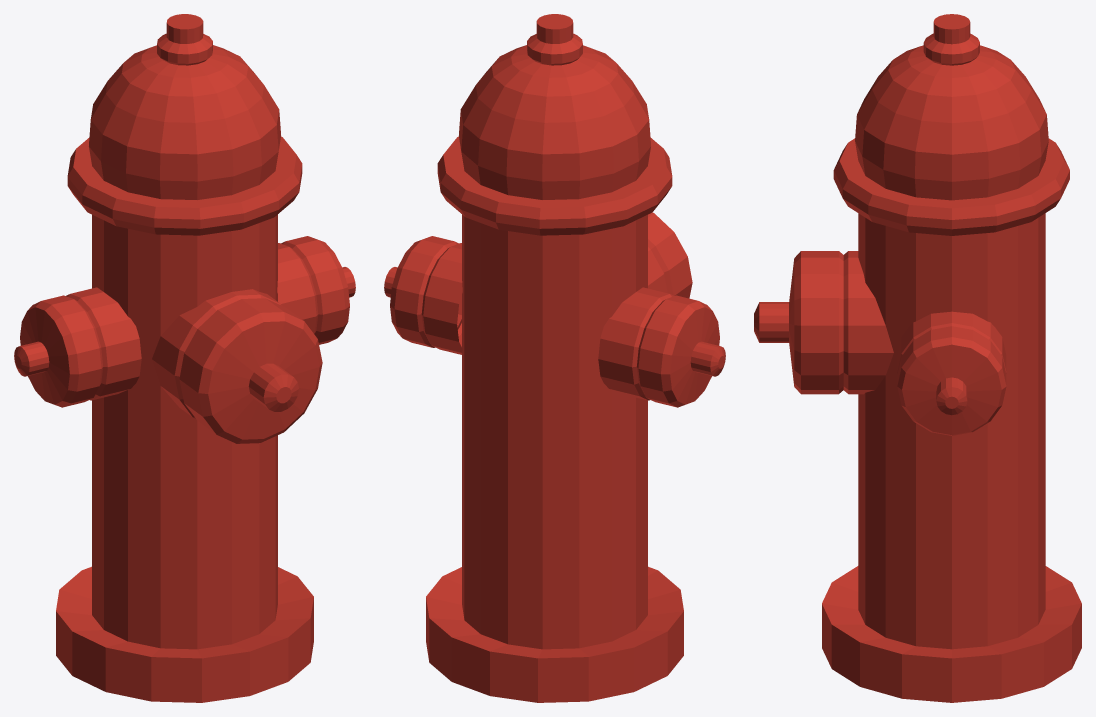
3 renders of one model, left to right at view 1: azimuth 30°, elevation 25°; view 2: azimuth 150°, elevation 25°; view 3: azimuth 270°, elevation 25°, orthographic.
Parts seen in each view (by area): view 1: Fire Hydrant; view 2: Fire Hydrant; view 3: Fire Hydrant.
Boxes of the visible parts, bbox=[...] form: Fire Hydrant: bbox=[14, 14, 355, 702]; Fire Hydrant: bbox=[384, 14, 725, 702]; Fire Hydrant: bbox=[754, 14, 1081, 702].
Bounding box in the file's own units: 0.4035 × 0.7253 × 0.3442.
